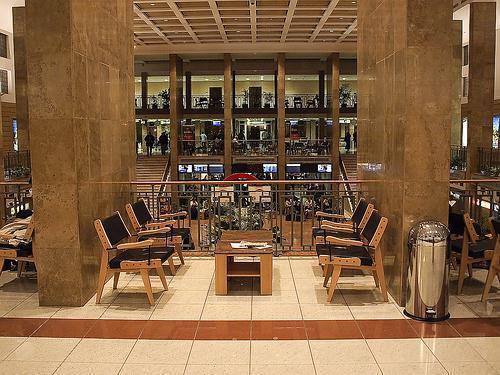Bote de Basura: (408, 219, 452, 325)
